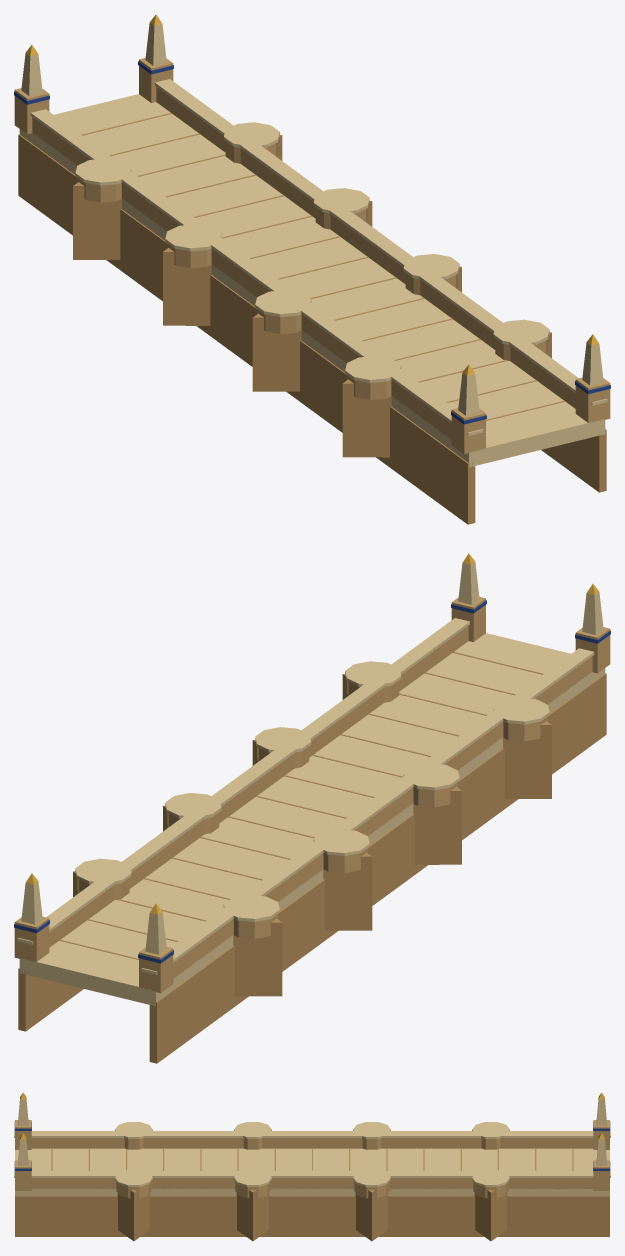
Rendered from desert_bridge.glb.
3 renders of one model, top to bottom at view 1: azimuth 30°, elevation 25°; view 2: azimuth 150°, elevation 25°; view 3: azimuth 270°, elevation 25°, orthographic. The views are drawn at different scales.
Parts seen in each view (by area): view 1: desert_bridge; view 2: desert_bridge; view 3: desert_bridge.
Boxes of the visible parts, x1,y1,x2,y2 form: desert_bridge: (14, 14, 610, 524); desert_bridge: (14, 553, 610, 1063); desert_bridge: (14, 1092, 610, 1241).
Size of the model in its own units: 8.6 by 6.05 by 32.1.
